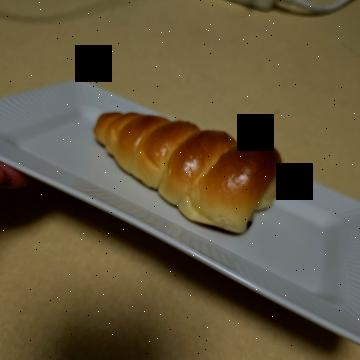cream horn: (72, 62, 239, 281)
